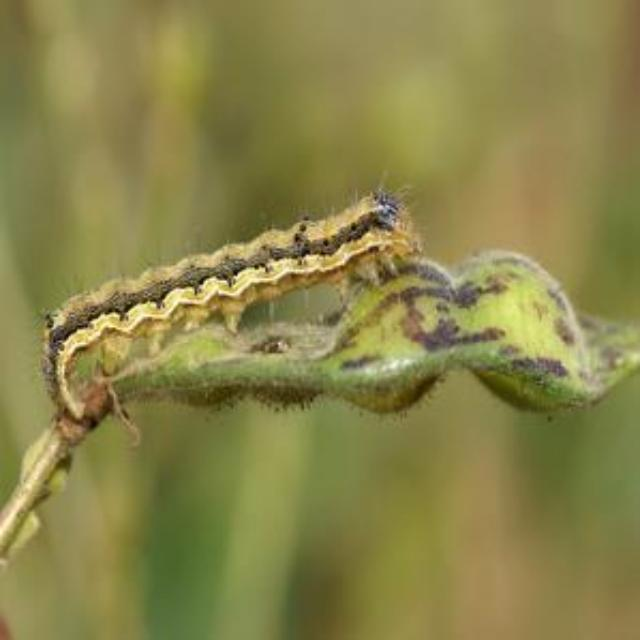Cotton bollworm: (29, 186, 480, 444)
